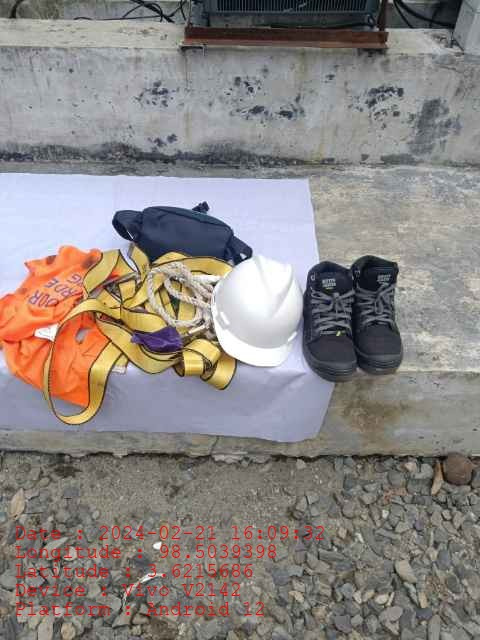HELM: (209, 256, 303, 366)
SEPATU: (305, 255, 404, 388)
